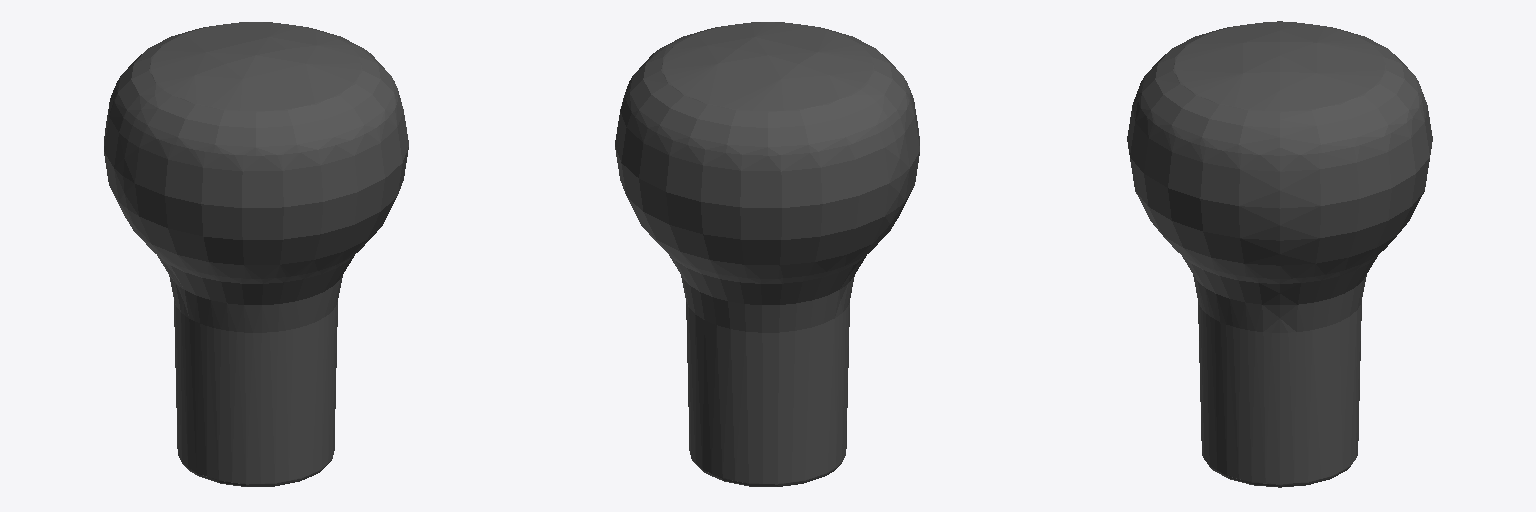
3 renders of one model, left to right at view 1: azimuth 30°, elevation 25°; view 2: azimuth 150°, elevation 25°; view 3: azimuth 270°, elevation 25°, orthographic.
Visible parts, largest first — view 1: gn_718_1-45-65-b10-g_1; view 2: gn_718_1-45-65-b10-g_1; view 3: gn_718_1-45-65-b10-g_1.
Boxes of the visible parts, box(x1,y1,x2,y2) form: gn_718_1-45-65-b10-g_1: box(104, 22, 408, 486); gn_718_1-45-65-b10-g_1: box(615, 22, 919, 486); gn_718_1-45-65-b10-g_1: box(1127, 21, 1432, 487).
Bounding box in the file's own units: 45 × 65 × 44.9.